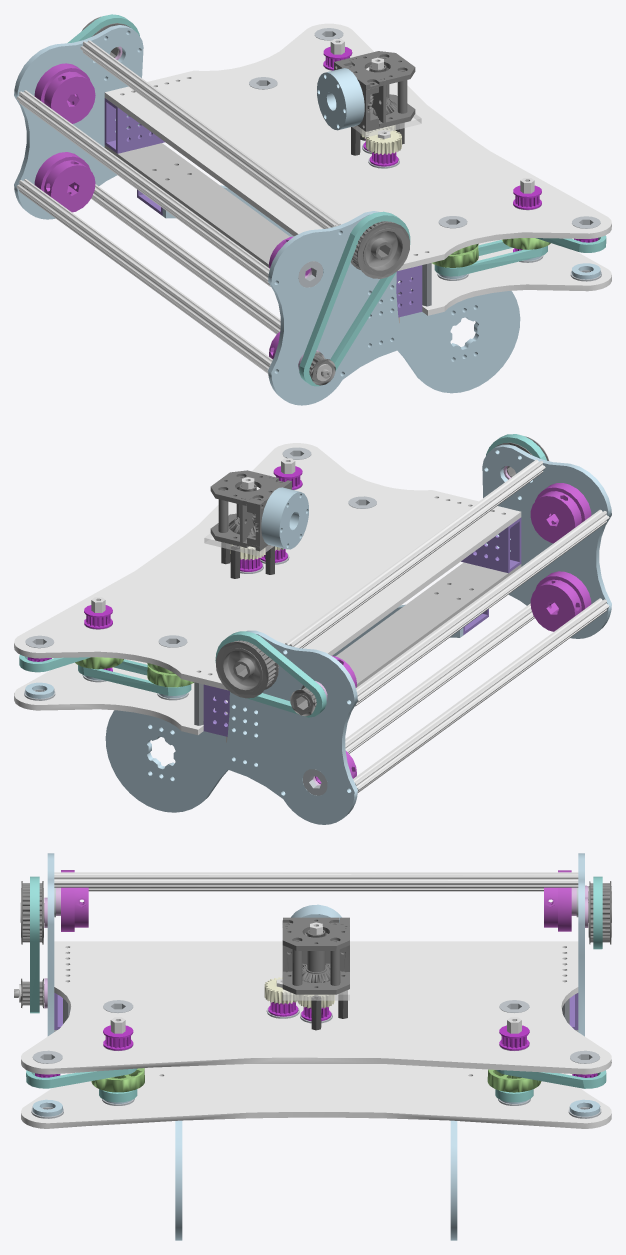
The model's file is Shooter.dae.
3 renders of one model, top to bottom at view 1: azimuth 30°, elevation 25°; view 2: azimuth 150°, elevation 25°; view 3: azimuth 270°, elevation 25°, orthographic. The views are drawn at different scales.
Parts seen in each view (by area): view 1: Shooter; view 2: Shooter; view 3: Shooter.
Part boxes in pixels (<box>): Shooter: <box>14,14,611,405</box>; Shooter: <box>14,434,611,824</box>; Shooter: <box>14,853,611,1240</box>.
Bounding box in the file's own units: 0.3857 × 0.5654 × 0.3119.
